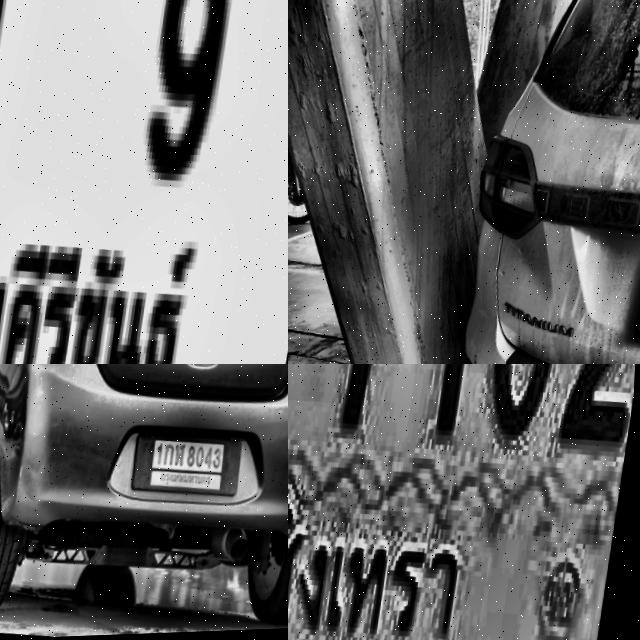license-plate: (0, 0, 288, 364), (288, 364, 640, 640), (135, 430, 248, 502)
